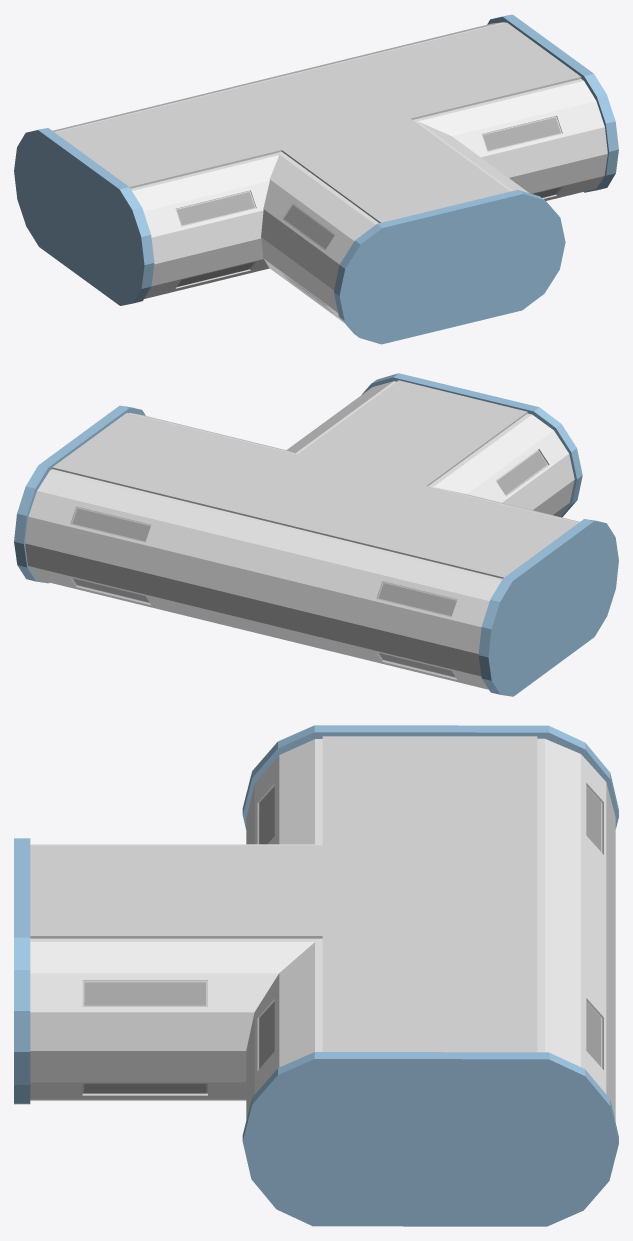
3 renders of one model, top to bottom at view 1: azimuth 30°, elevation 25°; view 2: azimuth 150°, elevation 25°; view 3: azimuth 270°, elevation 25°, orthographic. The views are drawn at different scales.
Parts seen in each view (by area): view 1: Cylinder_12; view 2: Cylinder_12; view 3: Cylinder_12.
Part boxes in pixels (box(x1,y1,x2,y2)): Cylinder_12: box(14, 14, 618, 344); Cylinder_12: box(14, 373, 618, 696); Cylinder_12: box(14, 725, 618, 1226).
Size of the model in its own units: 1261 by 298 by 966.
